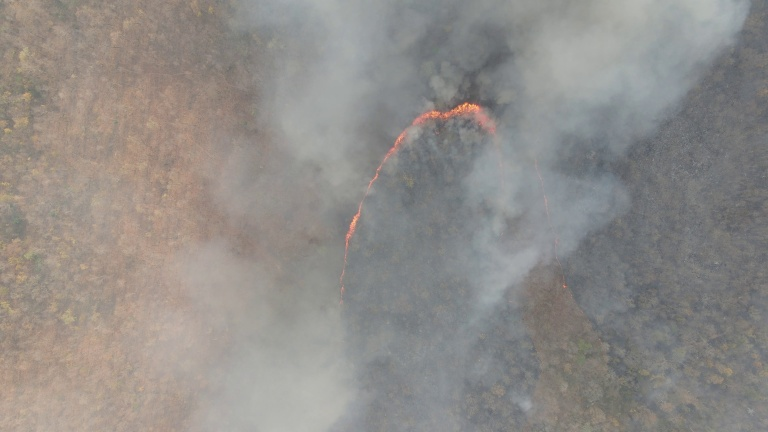fire: (336, 98, 499, 312), (525, 145, 558, 229), (549, 240, 573, 293)
smoke: (183, 1, 420, 430), (476, 1, 746, 304)
